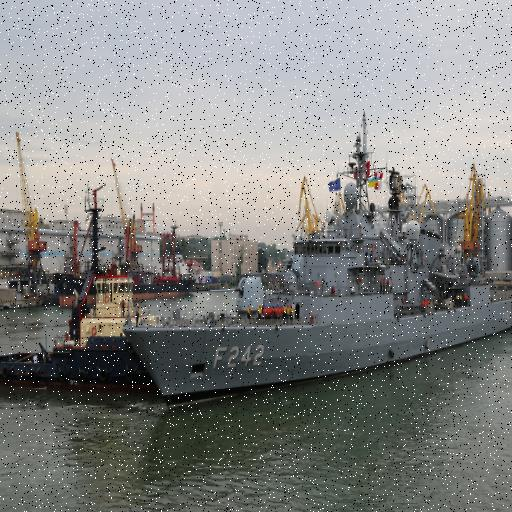Fragata: (121, 178, 512, 417)
